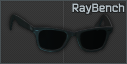RayBench Hipster Reserve sunglasses: (0, 0, 127, 64)
